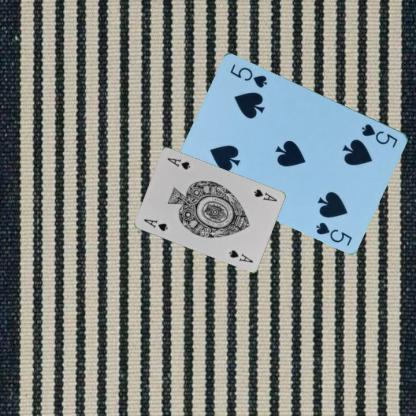5s: (360, 121, 400, 149)
As: (141, 216, 169, 232), (251, 186, 278, 202)
